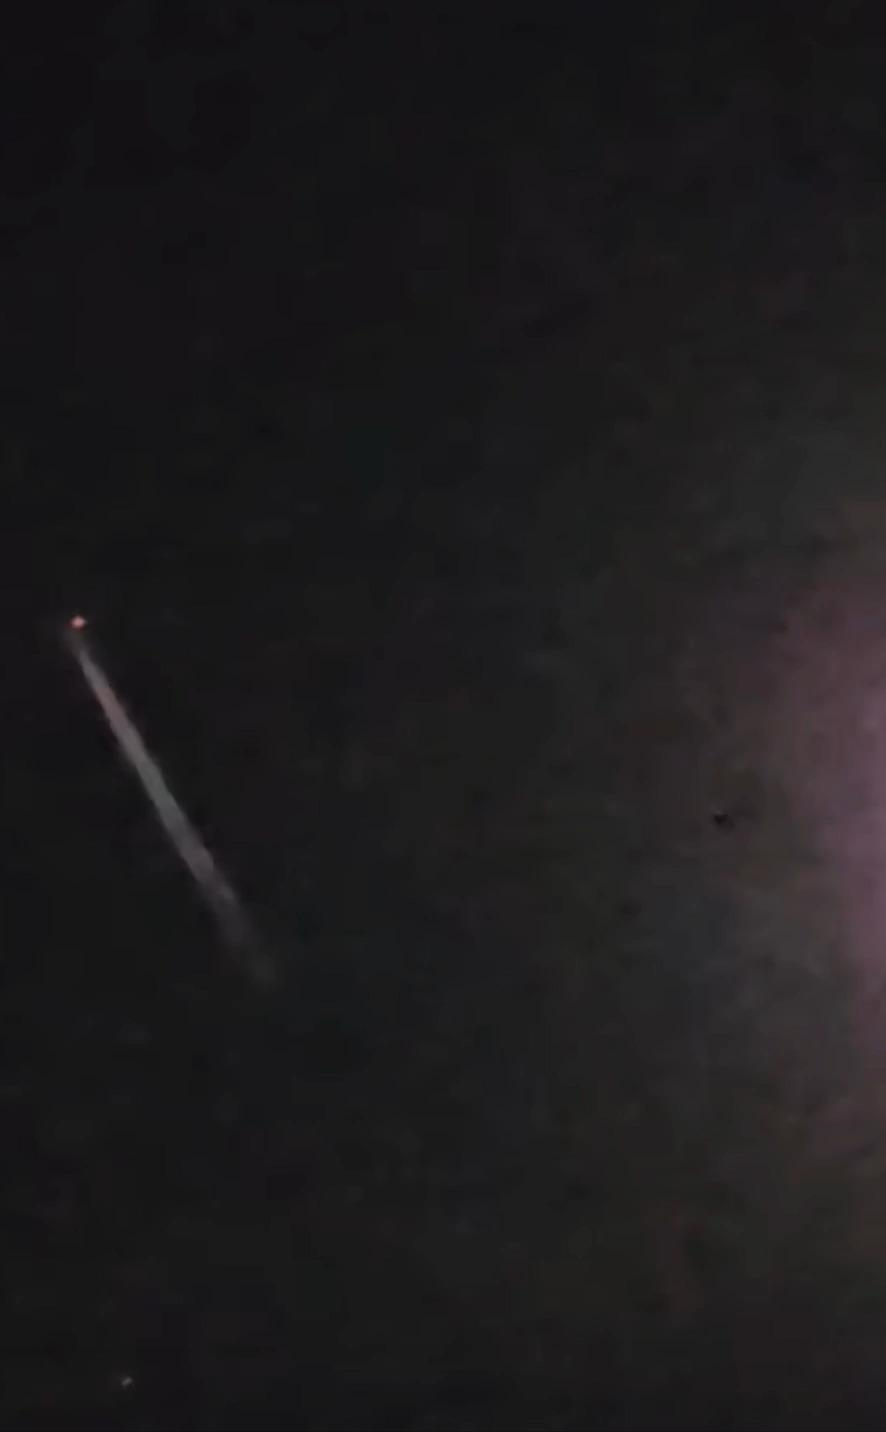Plane: (46, 594, 190, 822)
